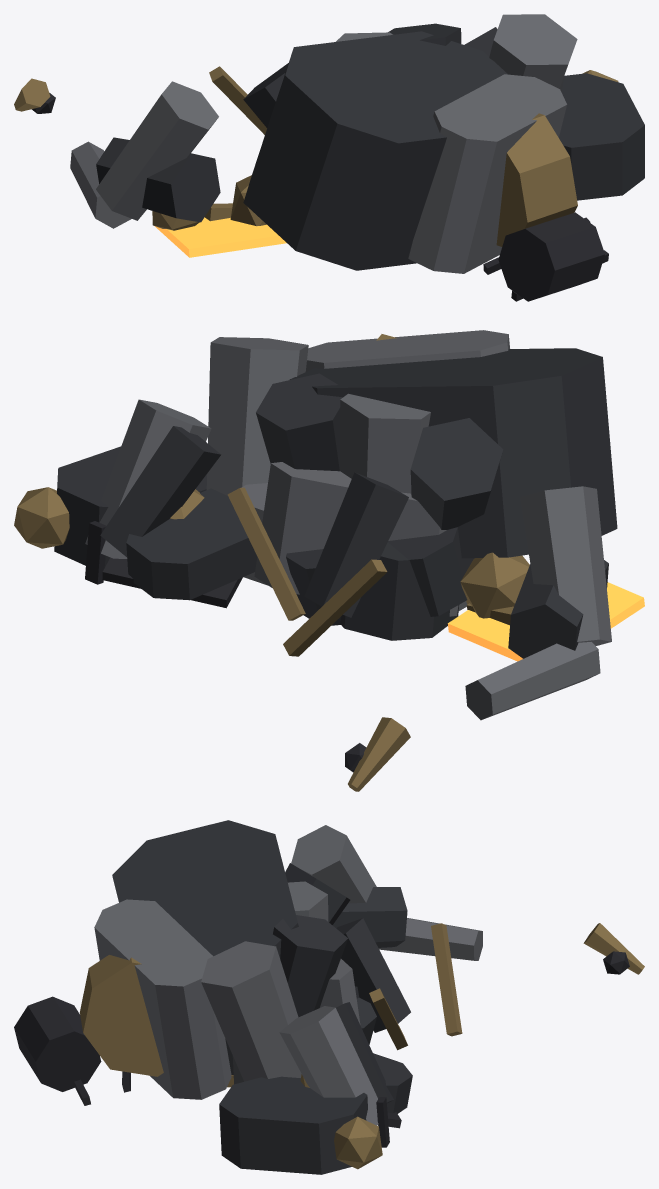
File: Wreck_Aegis_Technician.fbx
3 views of the same model, one above another, from view 1: azimuth 30°, elevation 25°; view 2: azimuth 150°, elevation 25°; view 3: azimuth 270°, elevation 25° (orthographic). The views are drawn at different scales.
Visible parts, largest first — view 1: Wreck_Aegis_Technician; view 2: Wreck_Aegis_Technician; view 3: Wreck_Aegis_Technician.
Part boxes in pixels (<box>): Wreck_Aegis_Technician: <box>14,14,644,301</box>; Wreck_Aegis_Technician: <box>14,330,644,791</box>; Wreck_Aegis_Technician: <box>14,820,644,1174</box>.
Size of the model in its own units: 0.6656 by 0.2499 by 0.7649.
